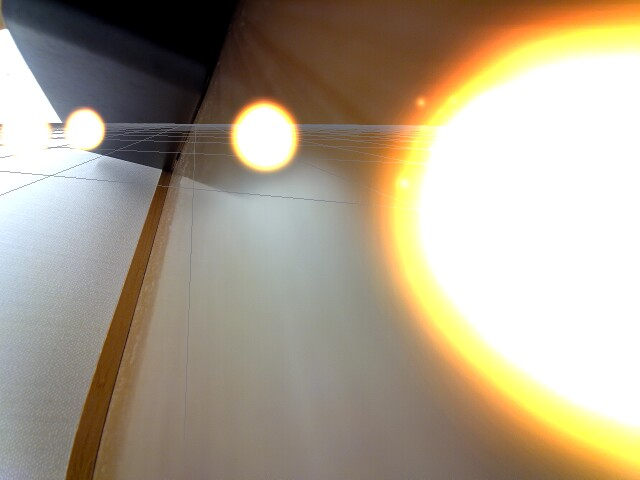firebig: (384, 0, 640, 476)
